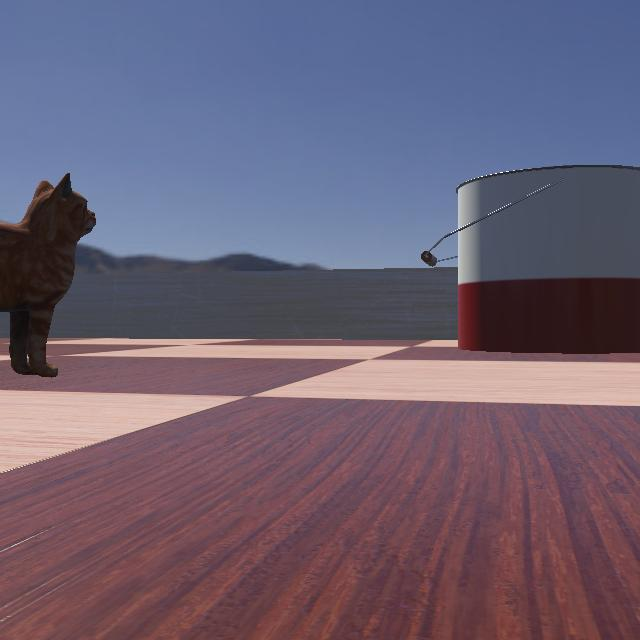cat: (1, 138, 108, 388), (1, 138, 108, 388)
paint-bucket: (405, 162, 639, 356)
